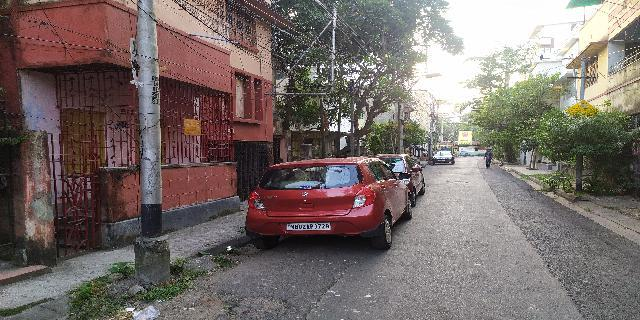Car: (240, 158, 408, 257), (389, 154, 434, 203)
